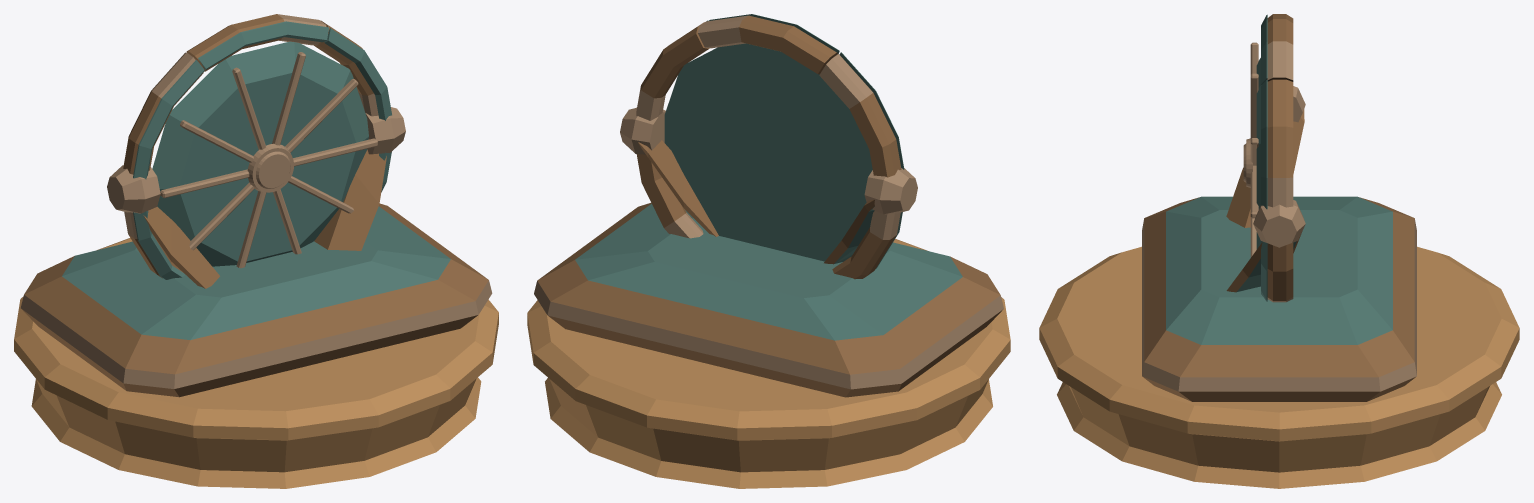
Rendered from garden-heliostat-authored.glb.
The picture shows the model from 3 angles, left to right: view 1: azimuth 30°, elevation 25°; view 2: azimuth 150°, elevation 25°; view 3: azimuth 270°, elevation 25°; orthographic projection.
Parts seen in each view (by area): view 1: garden-heliostat, Heliostat - carved podium, Heliostat - bronze mullions; view 2: garden-heliostat, Heliostat - carved podium; view 3: garden-heliostat, Heliostat - carved podium, Heliostat - bronze mullions.
Part boxes in pixels (x1,y1,x2,y2): garden-heliostat: (21, 14, 492, 397); Heliostat - carved podium: (14, 238, 498, 488); Heliostat - bronze mullions: (160, 52, 377, 268); garden-heliostat: (534, 14, 1003, 397); Heliostat - carved podium: (527, 239, 1010, 488); garden-heliostat: (1142, 14, 1416, 401); Heliostat - carved podium: (1039, 246, 1519, 488); Heliostat - bronze mullions: (1243, 42, 1258, 257).
Bounding box in the file's own units: 6.57 × 5.51 × 6.57.
